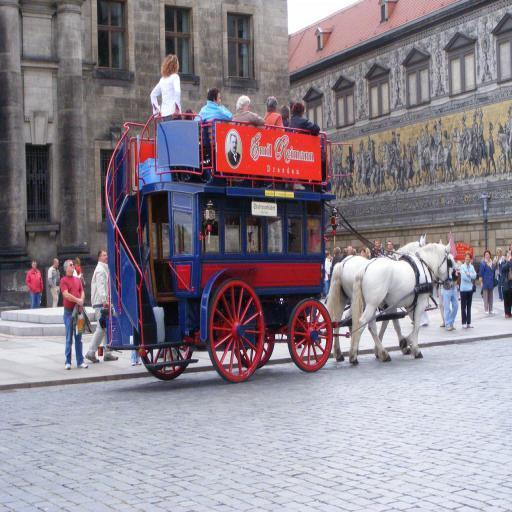horse: (350, 236, 457, 362), (325, 232, 426, 363)
